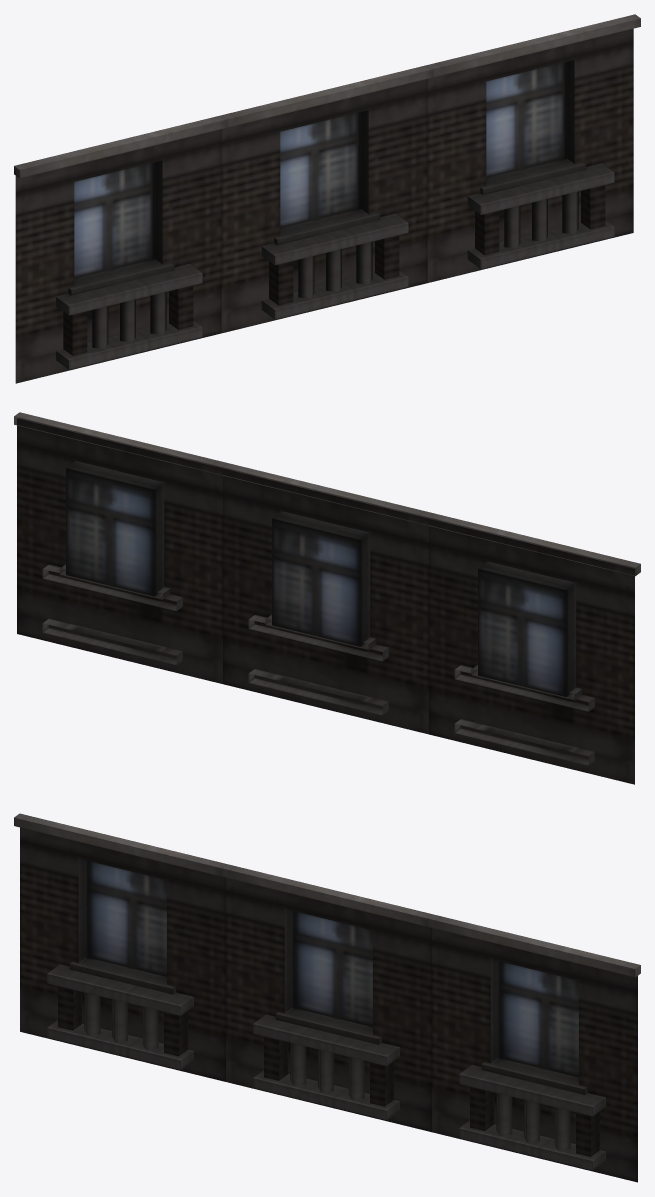
The model's file is B10_WindowB3x.FBX.
The picture shows the model from 3 angles, top to bottom: view 1: azimuth 30°, elevation 25°; view 2: azimuth 150°, elevation 25°; view 3: azimuth 330°, elevation 25°; orthographic projection.
Parts seen in each view (by area): view 1: B10_WindowB3x; view 2: B10_WindowB3x; view 3: B10_WindowB3x.
Part boxes in pixels (<box>): B10_WindowB3x: <box>14,14,640,383</box>; B10_WindowB3x: <box>14,412,640,784</box>; B10_WindowB3x: <box>14,813,640,1182</box>.
Bounding box in the file's own units: 12.07 × 4.04 × 0.7787.
